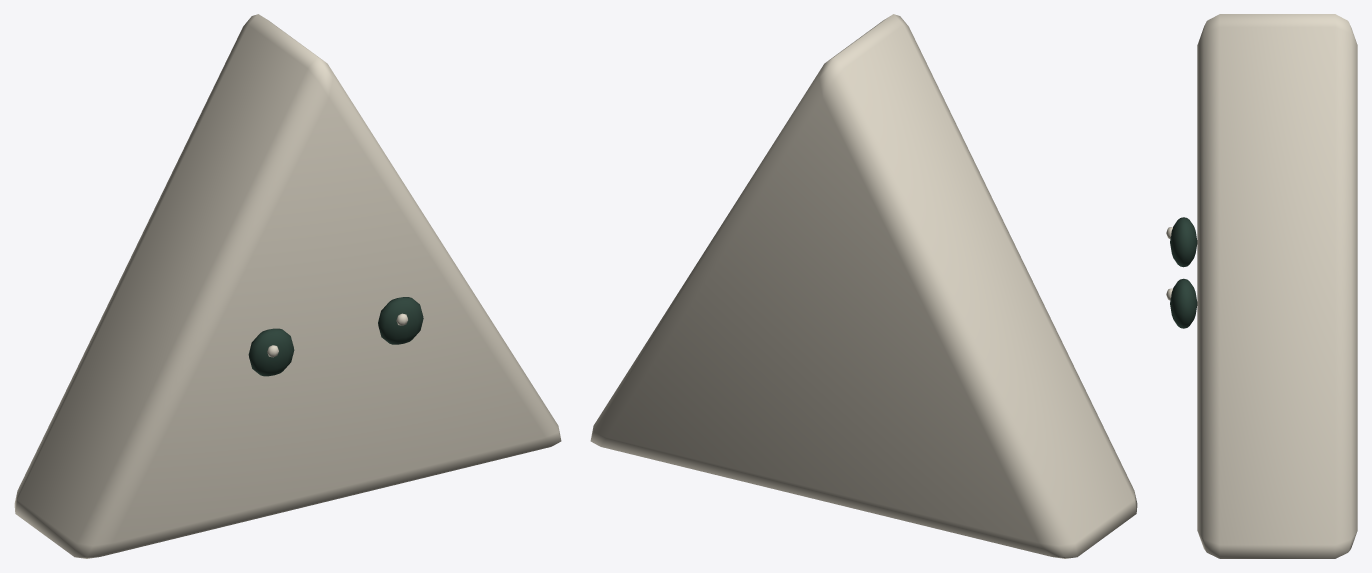
The model's file is shape_triangle.glb.
3 renders of one model, left to right at view 1: azimuth 30°, elevation 25°; view 2: azimuth 150°, elevation 25°; view 3: azimuth 270°, elevation 25°, orthographic. The views are drawn at different scales.
Parts seen in each view (by area): view 1: color_body, body; view 2: color_body; view 3: color_body, body.
Boxes of the visible parts, <box> form: color_body: <box>14,14,561,558</box>; body: <box>248,297,423,376</box>; color_body: <box>590,14,1137,558</box>; color_body: <box>1197,14,1357,558</box>; body: <box>1166,217,1197,328</box>.
Size of the model in its own units: 1.09 by 0.9547 by 0.382.
